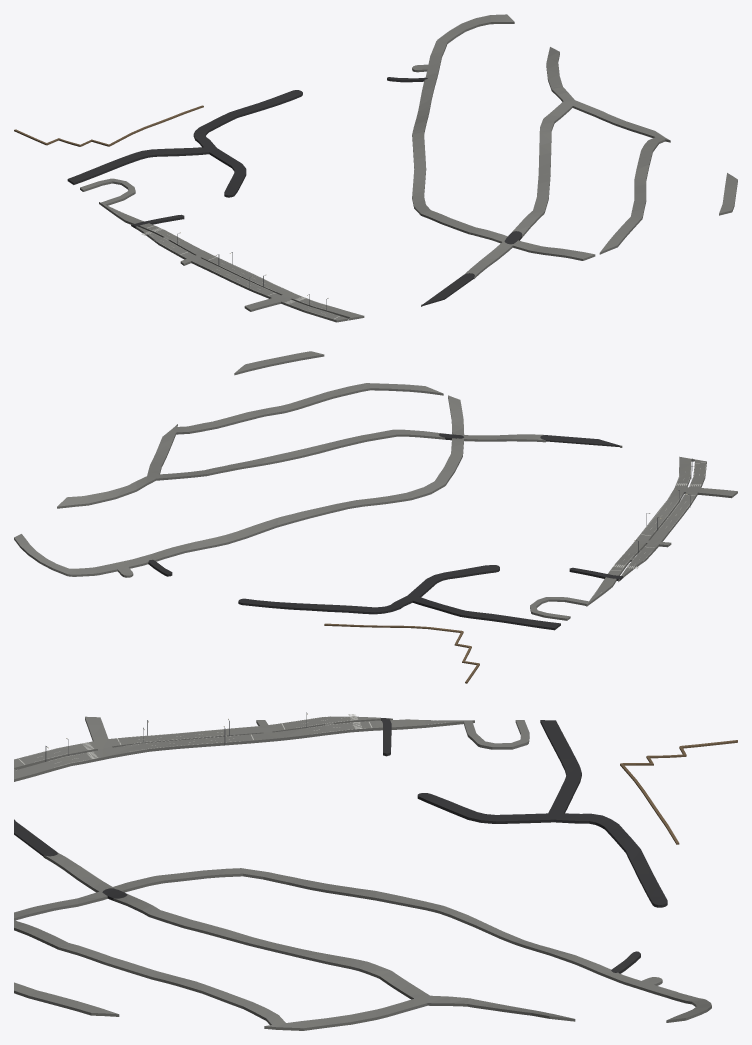
3 views of the same model, one above another, from view 1: azimuth 30°, elevation 25°; view 2: azimuth 150°, elevation 25°; view 3: azimuth 270°, elevation 25° (orthographic). The views are drawn at different scales.
Size of the model in its own units: 296 by 15.48 by 291.
